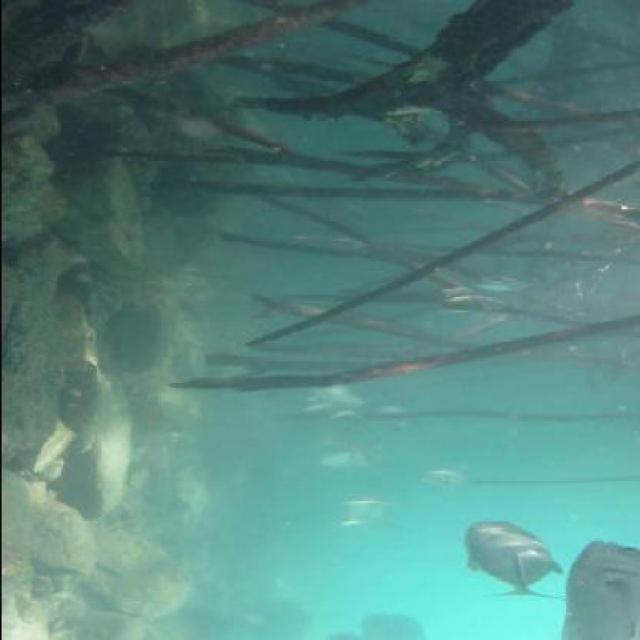Caranx_sexfasciatus_juvenile: (458, 516, 558, 604), (562, 532, 638, 640), (430, 288, 521, 322), (318, 494, 394, 534), (281, 372, 357, 410), (362, 396, 426, 436), (356, 607, 432, 639), (312, 444, 386, 474), (478, 267, 539, 296), (304, 402, 370, 426), (405, 468, 469, 490)
